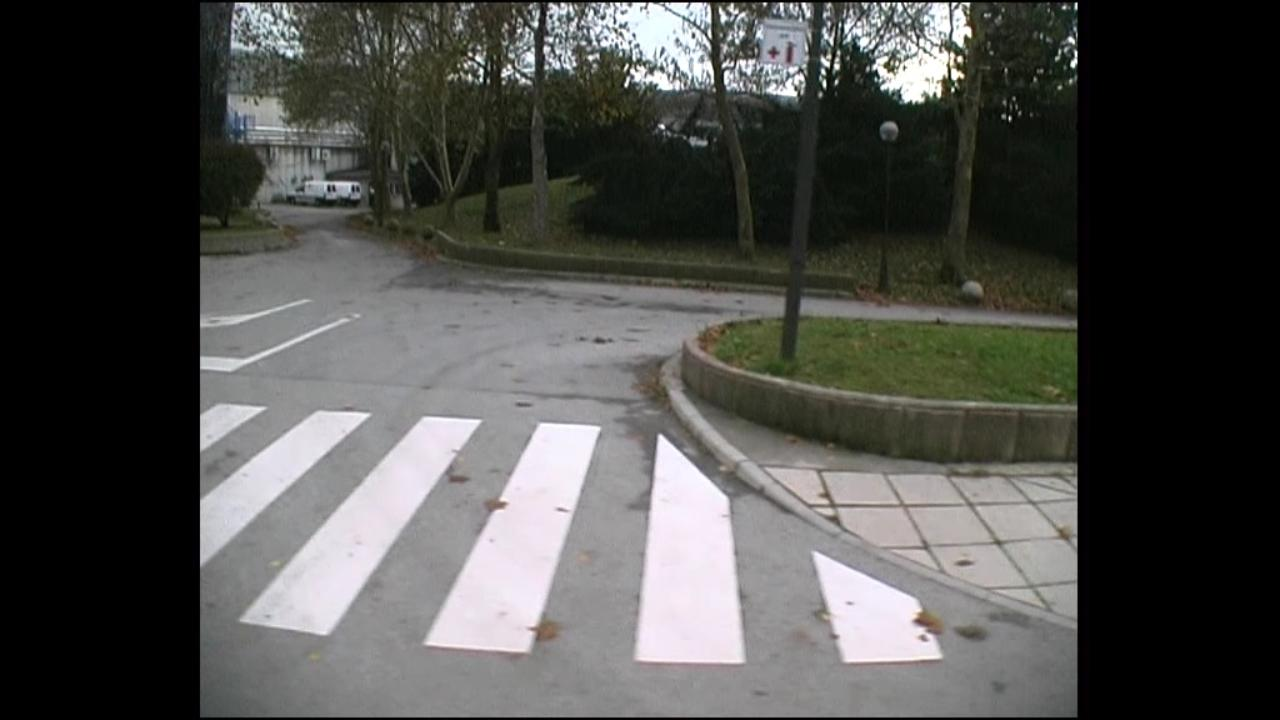Rectangle: (760, 16, 806, 70)
